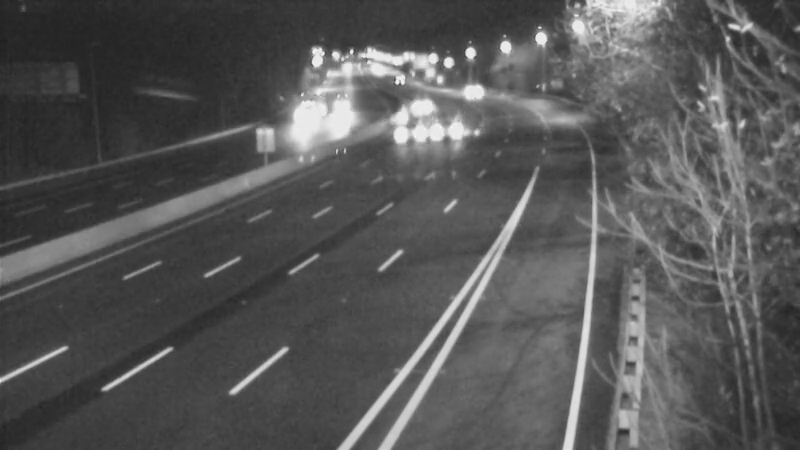vehicle: (373, 54, 423, 104), (440, 66, 490, 116), (396, 75, 446, 125), (377, 88, 427, 138), (428, 99, 478, 149), (383, 105, 433, 155), (279, 94, 329, 144), (315, 83, 365, 133)
